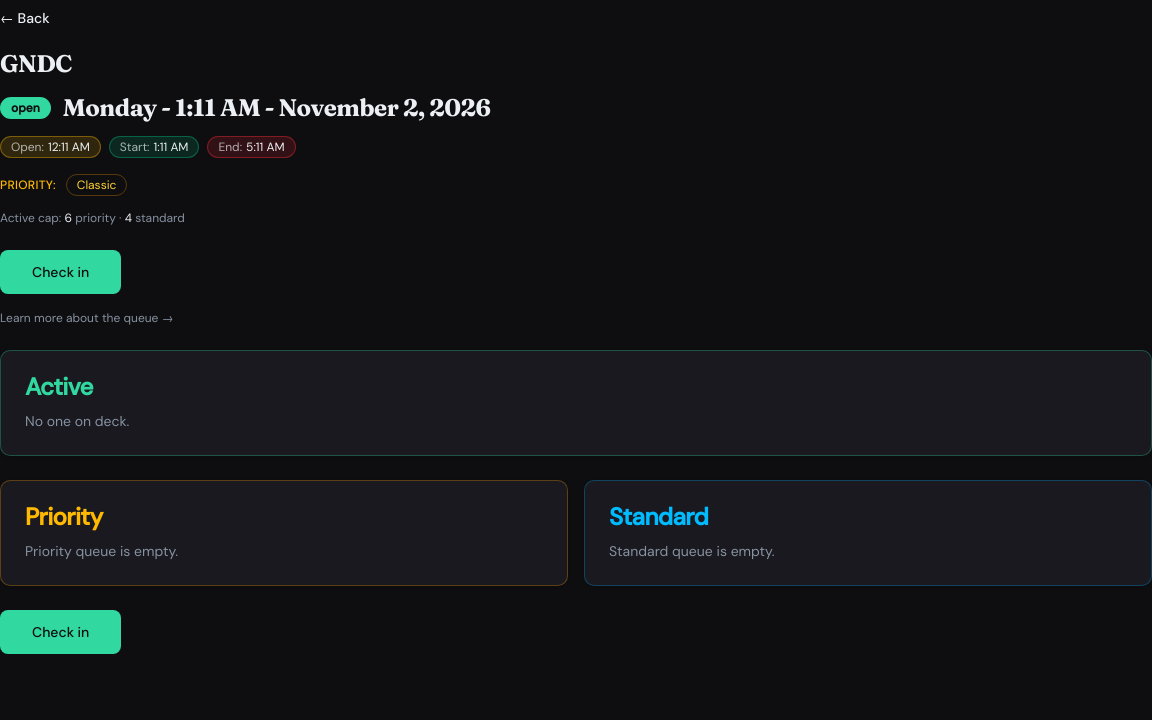
SessionDetailPage — check-in song selector › shows only songs submitted to the session event
Click the 1st button "Check in" at (61, 272), box [0,250,121,294]
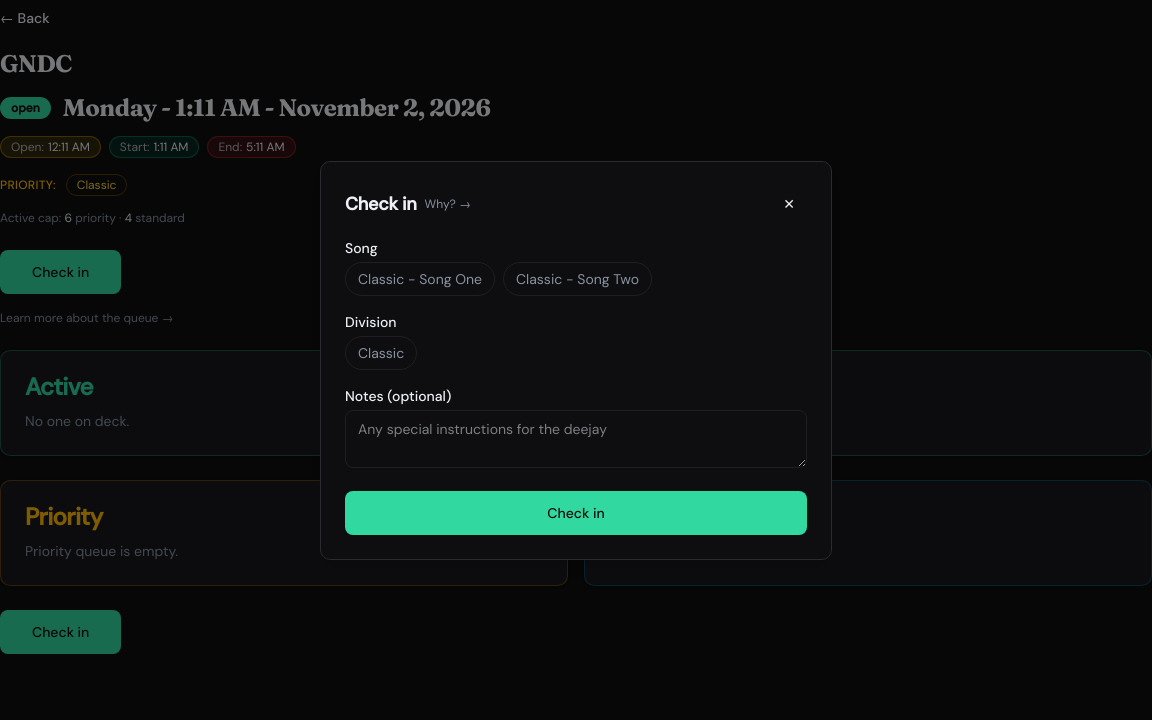
expect the element "Classic - Song One Classic - Song Two" is shown: met, box [345,262,652,296]
expect the radio button labelled "Classic - Song One" is shown: met, box [345,262,495,296]
expect the radio button labelled "Classic - Song Two" is shown: met, box [503,262,652,296]
